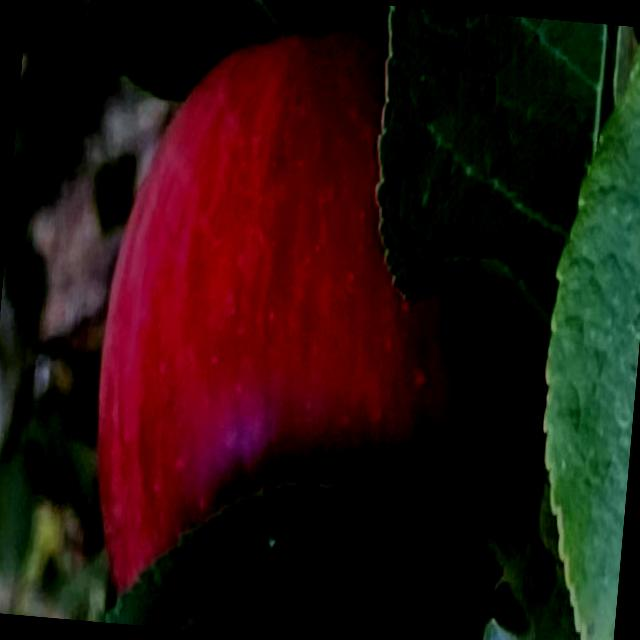Apple: (77, 5, 580, 636)
